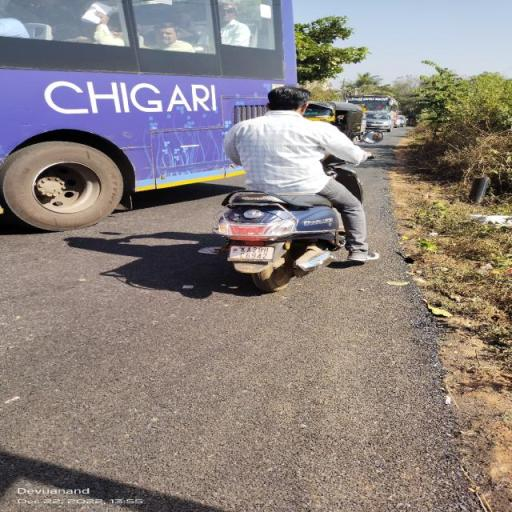bike: (210, 81, 378, 296)
numberplate: (230, 245, 272, 261)
withouthelmet: (270, 87, 310, 112)
